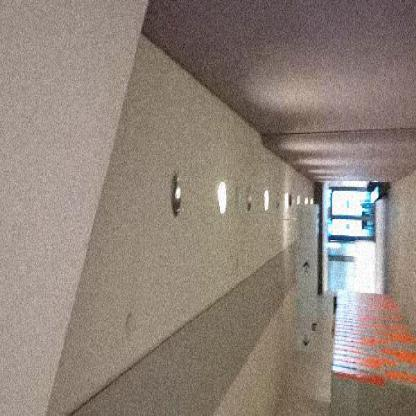light_off: (158, 164, 192, 224), (240, 178, 255, 221)
